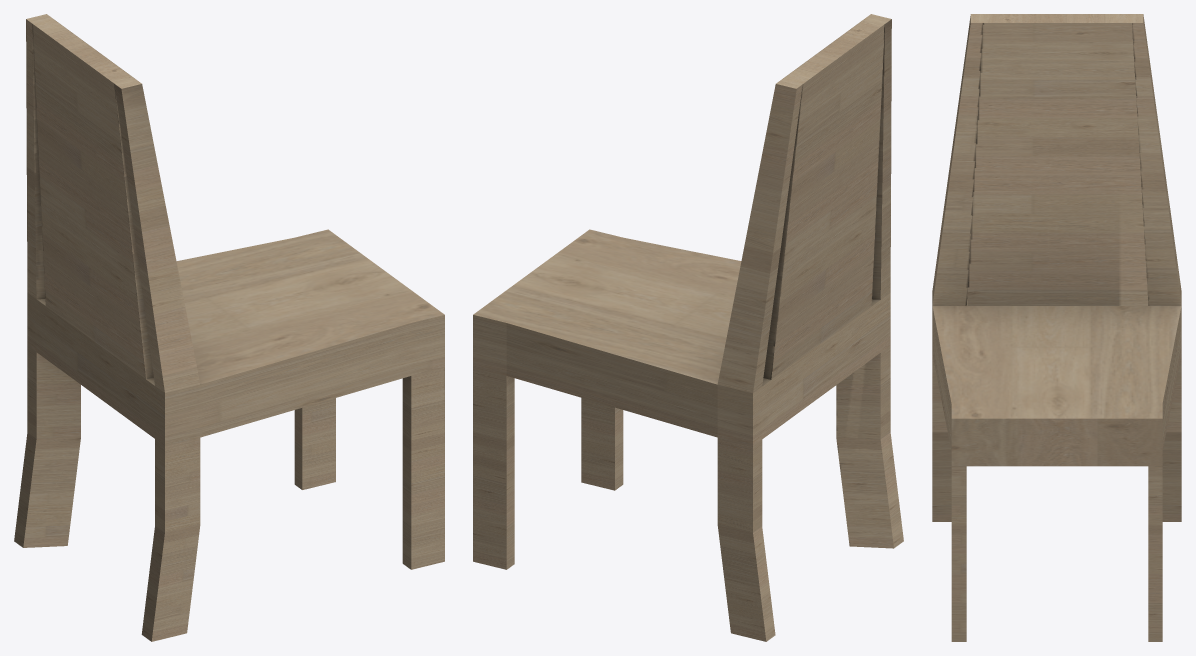
The model's file is Silla (1).fbx.
3 renders of one model, left to right at view 1: azimuth 30°, elevation 25°; view 2: azimuth 150°, elevation 25°; view 3: azimuth 270°, elevation 25°, orthographic. The views are drawn at different scales.
Parts seen in each view (by area): view 1: Silla; view 2: Silla; view 3: Silla.
Boxes of the visible parts, x1=… form: Silla: x1=14, y1=14, x2=444, y2=641; Silla: x1=473, y1=14, x2=903, y2=641; Silla: x1=932, y1=14, x2=1181, y2=641.
Size of the model in its own units: 2.03 by 3.35 by 1.55.
